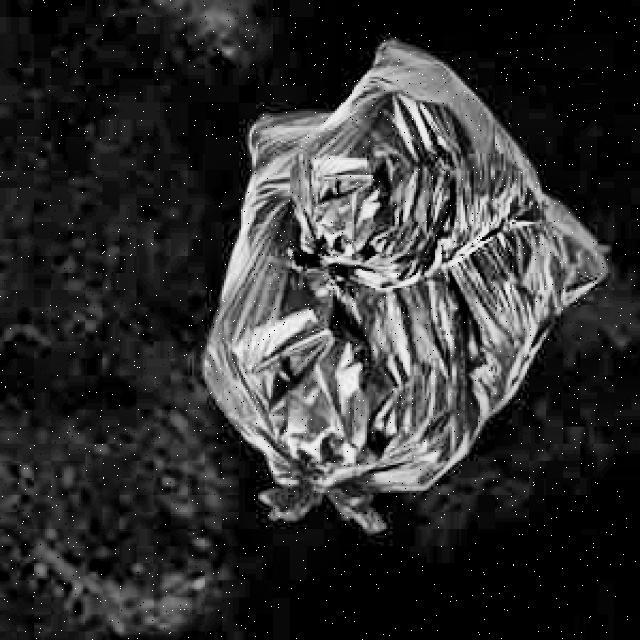Trashbag: (202, 35, 620, 502)
